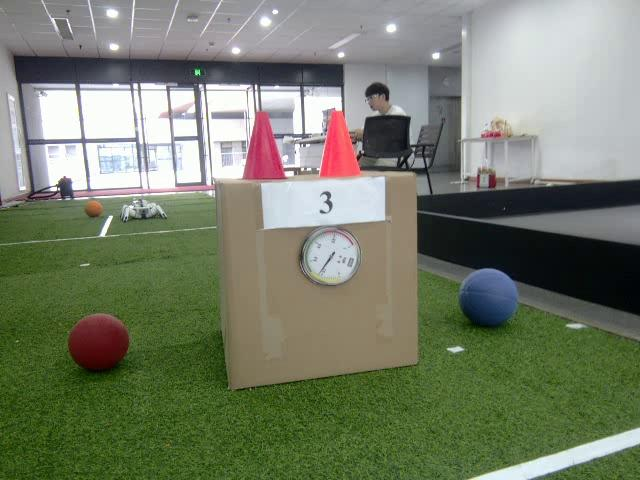3: (317, 189, 335, 215)
Dashboard: (300, 226, 361, 288)
blue_ball: (461, 268, 519, 327)
orange_barrel: (316, 109, 362, 177)
red_ball: (68, 313, 130, 370)
red_barrel: (243, 111, 286, 180)
ssi: (346, 257, 355, 270)
